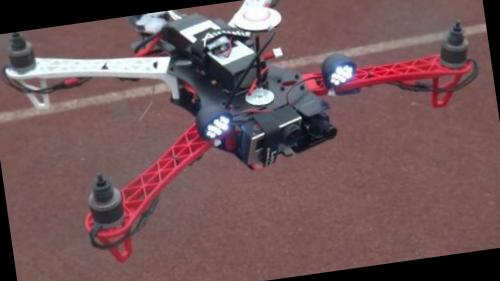drone: (0, 0, 496, 272)
